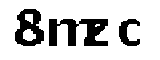8: (8, 6, 45, 53)
c: (118, 15, 145, 51)
m: (46, 11, 97, 53)
z: (85, 16, 114, 51)
